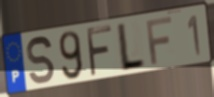1: (187, 13, 202, 57)
9: (57, 29, 84, 81)
F: (85, 24, 114, 79), (144, 15, 173, 66)
L: (117, 21, 146, 74)
S: (26, 35, 57, 87)
